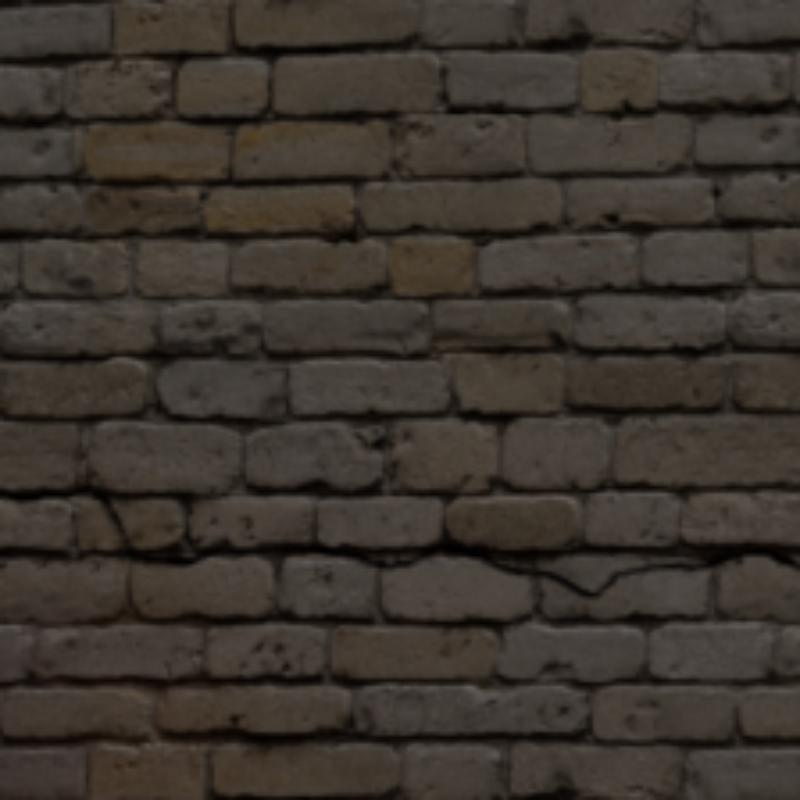pothole: (0, 482, 796, 593)
